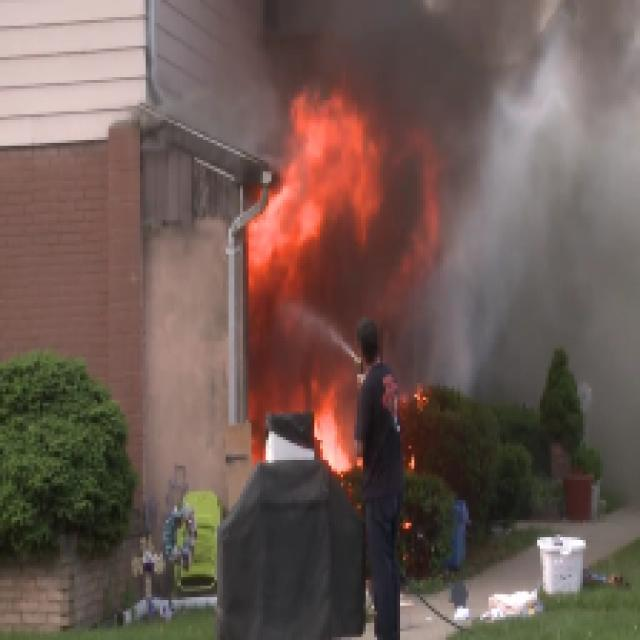fire: (250, 108, 374, 272)
smoke: (405, 0, 640, 394)
